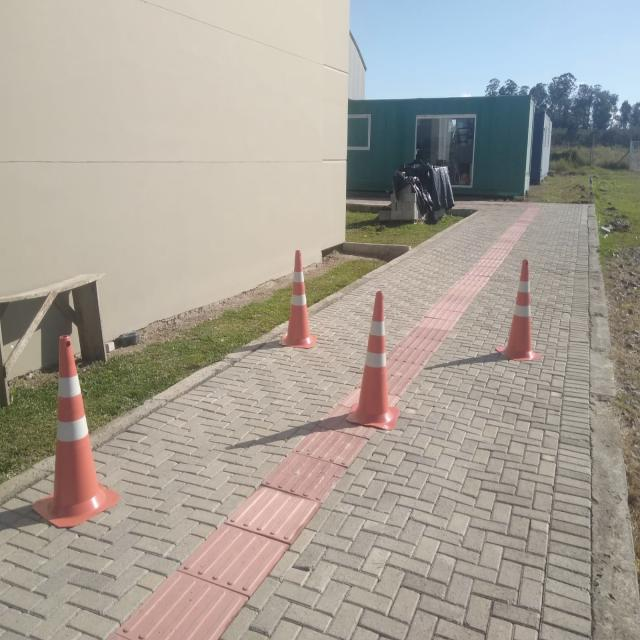cone: (32, 333, 122, 529), (345, 289, 402, 431), (494, 257, 544, 362), (278, 249, 318, 349)
